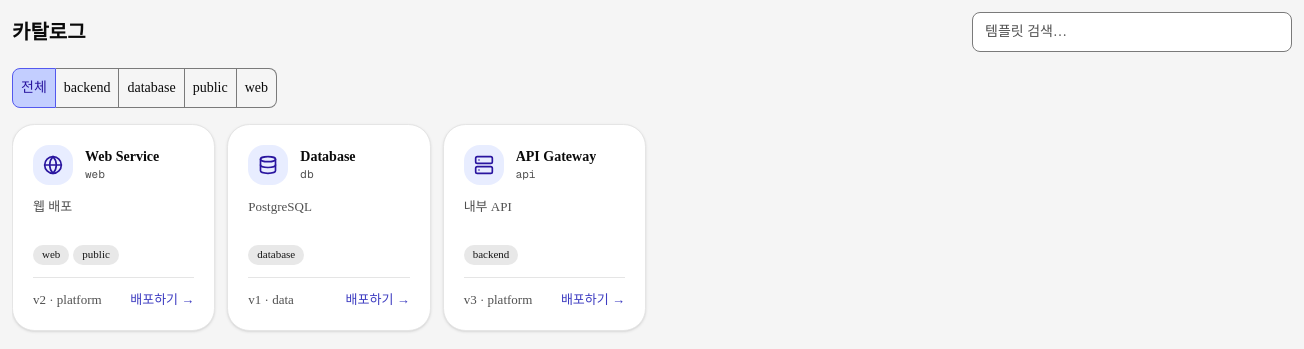
Scenario: CatalogBrowser › shows empty state when no matches
Type "xyzNoMatch" into the field with placeholder "템플릿 검색…" at x=1132, y=32, box [972,12,1292,52]
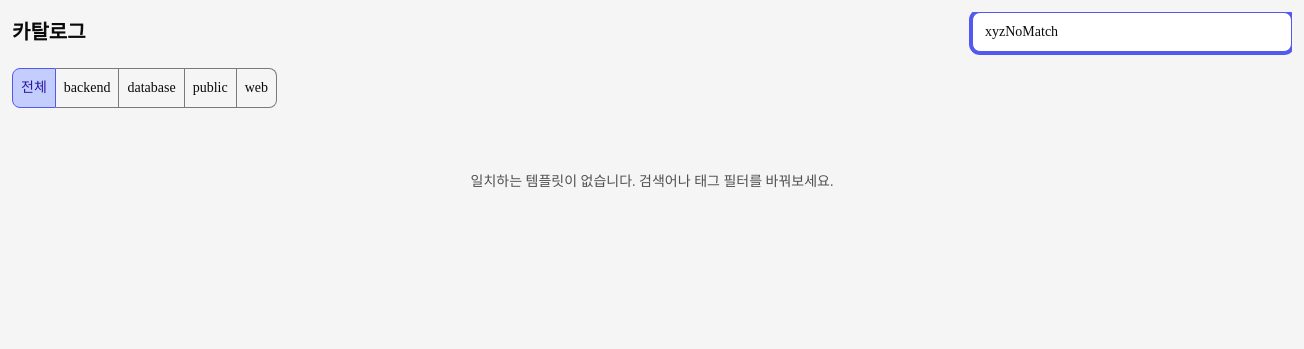
Now the text "일치하는 템플릿이 없습니다. 검색어나 태그 필터를 바꿔보세요." is shown, box [470,174,833,189]
